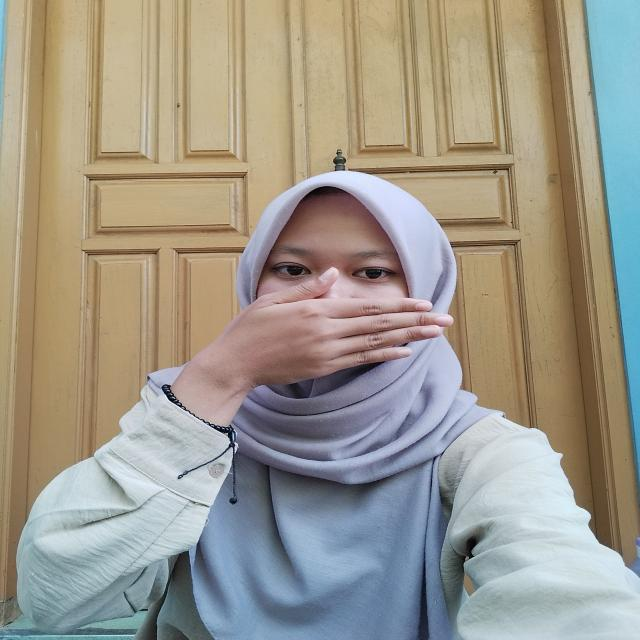buruk: (153, 269, 473, 404)
